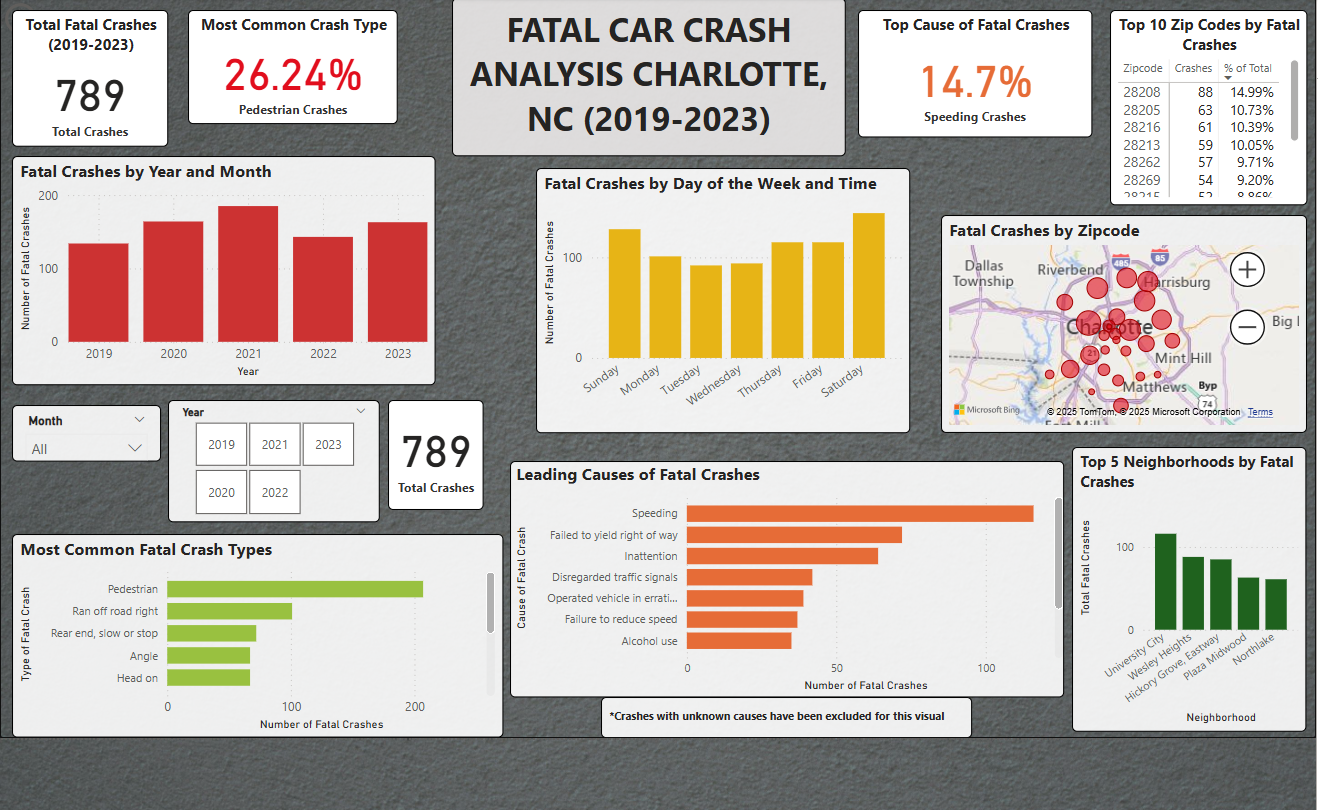

The page's visual inventory and layout, read from the dashboard file:
{"tool":"powerbi","page":{"name":"Overall Statistics","canvas":[1280,720],"ordinal":0},"visuals":[{"type":"clusteredColumnChart","title":"Fatal Crashes by Year and Month","fields":{"Category":["Fatal_or_Serious_Injury_Crashes.Day of the Week  Hieararchy.Year","Fatal_or_Serious_Injury_Crashes.Day of the Week  Hieararchy.Month(Name)"],"Y":["Fatal_or_Serious_Injury_Crashes.TotalCrashes"]},"box":[10.7,153.7,412.4,222.7],"z":0},{"type":"actionButton","box":[0,0,100,40],"z":1000},{"type":"clusteredBarChart","title":"Most Common Fatal Crash Types","fields":{"Category":["Fatal_or_Serious_Injury_Crashes.CRASH_TYPE"],"Y":["Fatal_or_Serious_Injury_Crashes.TotalCrashes"]},"box":[12,521.7,472.3,192.8],"z":2000},{"type":"clusteredBarChart","title":"Leading Causes of Fatal Crashes","fields":{"Category":["Fatal_or_Serious_Injury_Crashes.PrimaryDescription"],"Y":["Fatal_or_Serious_Injury_Crashes.TotalCrashes"]},"box":[496,450.3,538.8,229.5],"z":3000},{"type":"textbox","box":[439.7,0,383.3,154],"z":4000},{"type":"textbox","box":[584.6,679.9,360.9,39.9],"z":5000},{"type":"card","title":"Most Common Crash Type","fields":{"Values":["Fatal_or_Serious_Injury_Crashes.PercentageofPedestrianCrashes"]},"box":[182.9,11.7,204.3,110.9],"z":6000},{"type":"slicer","fields":{"Values":["Fatal_or_Serious_Injury_Crashes.Day of the Week  Hieararchy.Month(Name)"]},"box":[11.6,395.8,145.1,54.6],"z":7000},{"type":"card","title":"Total Fatal Crashes (2019-2023)","fields":{"Values":["Fatal_or_Serious_Injury_Crashes.TotalCrashes"]},"box":[11.7,11.7,151.7,133.3],"z":8000},{"type":"slicer","fields":{"Values":["Fatal_or_Serious_Injury_Crashes.Day of the Week  Hieararchy.Year"]},"box":[163.4,391,206.2,118.7],"z":9000},{"type":"card","fields":{"Values":["Fatal_or_Serious_Injury_Crashes.TotalCrashes"]},"box":[377.4,391,93.4,107],"z":10000},{"type":"clusteredColumnChart","title":"Fatal Crashes by Day of the Week and Time","fields":{"Category":["Fatal_or_Serious_Injury_Crashes.Date.Day of Week","Fatal_or_Serious_Injury_Crashes.Date.HOUR_INTERVAL"],"Y":["Fatal_or_Serious_Injury_Crashes.TotalCrashes"]},"box":[508.7,172.2,375.4,264.6],"z":11000},{"type":"map","title":"Fatal Crashes by Zipcode","fields":{"Size":["Fatal_or_Serious_Injury_Crashes.TotalCrashes"],"Category":["Fatal_or_Serious_Injury_Crashes.Zipcode"]},"box":[915.3,211.1,356,212],"z":12000},{"type":"pivotTable","title":"Top 10 Zip Codes by Fatal Crashes","fields":{"Values":["Fatal_or_Serious_Injury_Crashes.TotalCrashes","Divide(Fatal_or_Serious_Injury_Crashes.TotalCrashes, ScopedEval(Fatal_or_Serious_Injury_Crashes.TotalCrashes, []))"],"Rows":["Fatal_or_Serious_Injury_Crashes.Zipcode"]},"box":[1079.6,11.7,191.6,189.7],"z":13000},{"type":"card","title":"Top Cause of Fatal Crashes","fields":{"Values":["Fatal_or_Serious_Injury_Crashes.SpeedingCasesPercentage"]},"box":[834.5,11.7,227.6,124.5],"z":14000},{"type":"clusteredColumnChart","title":"Top 5 Neighborhoods by Fatal Crashes","fields":{"Category":["Fatal_or_Serious_Injury_Crashes.Neighborhood Area"],"Y":["Fatal_or_Serious_Injury_Crashes.TotalCrashes"]},"box":[1042.4,437,228.4,276.7],"z":15000}]}

Visuals, with their boxes in screenshot pixels (x1, y1, x2, y2):
"Fatal Crashes by Year and Month" clusteredColumnChart: 21/160/440/386
actionButton: 10/3/112/44
"Most Common Fatal Crash Types" clusteredBarChart: 22/533/502/729
"Leading Causes of Fatal Crashes" clusteredBarChart: 514/461/1061/694
textbox: 457/3/846/160
textbox: 604/694/970/734
"Most Common Crash Type" card: 196/15/403/128
slicer - Fatal_or_Serious_Injury_Crashes.Day of the Week  Hieararchy.Month(Name): 22/405/169/461
"Total Fatal Crashes (2019-2023)" card: 22/15/176/151
slicer - Fatal_or_Serious_Injury_Crashes.Day of the Week  Hieararchy.Year: 176/400/386/521
card - Fatal_or_Serious_Injury_Crashes.TotalCrashes: 394/400/488/509
"Fatal Crashes by Day of the Week and Time" clusteredColumnChart: 527/178/908/447
"Fatal Crashes by Zipcode" map: 940/218/1301/433
"Top 10 Zip Codes by Fatal Crashes" pivotTable: 1107/15/1301/208
"Top Cause of Fatal Crashes" card: 858/15/1089/142
"Top 5 Neighborhoods by Fatal Crashes" clusteredColumnChart: 1069/447/1301/728
